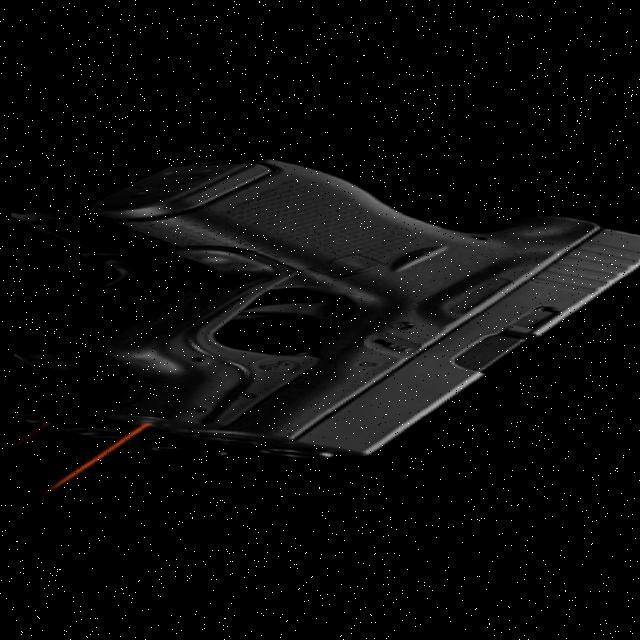pistol: (76, 149, 640, 471)
